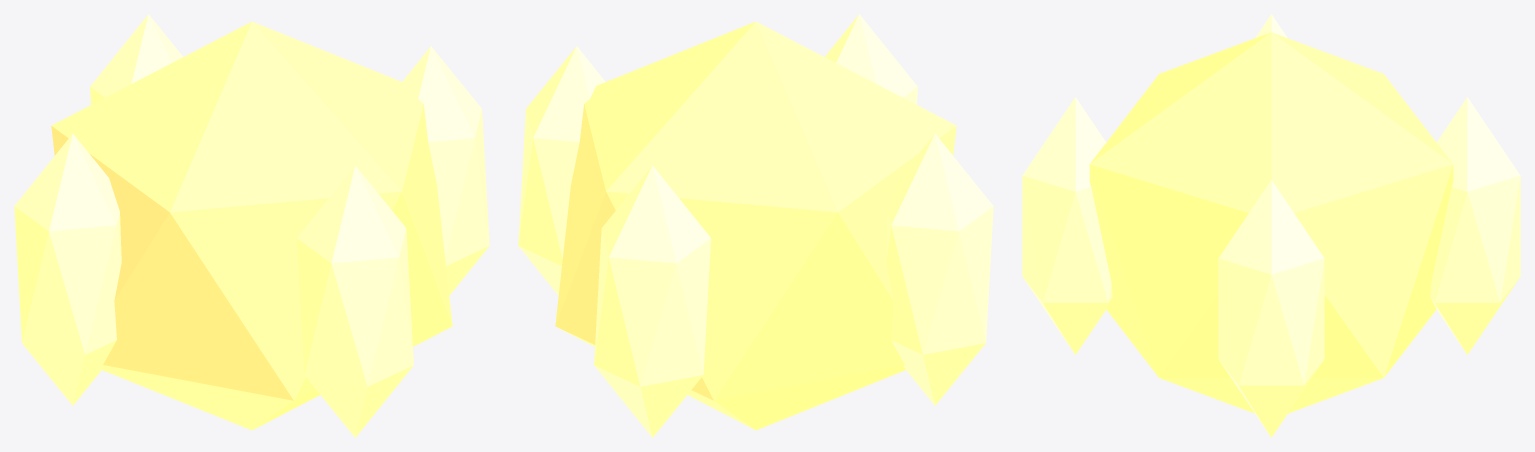
Rendered from fireball.glb.
3 views of the same model, side by side, from view 1: azimuth 30°, elevation 25°; view 2: azimuth 150°, elevation 25°; view 3: azimuth 270°, elevation 25° (orthographic). The views are drawn at different scales.
Parts seen in each view (by area): view 1: FireballShell, FireballSpark3, FireballSpark2, FireballSpark0, FireballSpark1; view 2: FireballShell, FireballSpark1, FireballSpark2, FireballSpark0, FireballSpark3; view 3: FireballShell, FireballSpark0, FireballSpark1, FireballSpark3.
Boxes of the visible parts, x1,y1,x2,y2 form: FireballShell: (51, 21, 452, 430); FireballSpark3: (297, 165, 413, 437); FireballSpark2: (14, 133, 121, 405); FireballSpark0: (402, 46, 489, 295); FireballSpark1: (90, 14, 182, 104); FireballShell: (555, 21, 956, 430); FireballSpark1: (594, 165, 710, 437); FireballSpark2: (886, 133, 993, 405); FireballSpark0: (518, 46, 605, 295); FireballSpark3: (825, 14, 917, 104); FireballShell: (1089, 32, 1453, 413); FireballSpark0: (1218, 180, 1324, 437); FireballSpark1: (1430, 97, 1520, 354); FireballSpark3: (1022, 97, 1112, 354).
Bounding box in the file's own units: 0.5652 × 0.48 × 0.5591.
